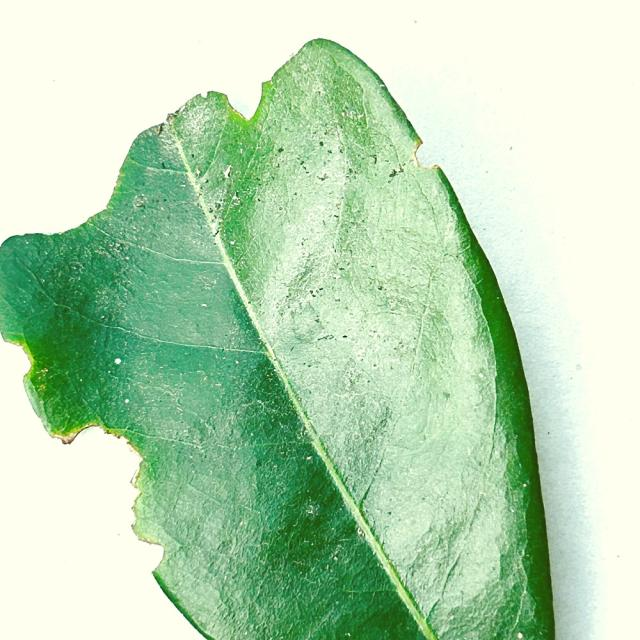Deficiency Leaf: (66, 429, 159, 563), (415, 131, 442, 172)
Lychee: (0, 38, 556, 639)
